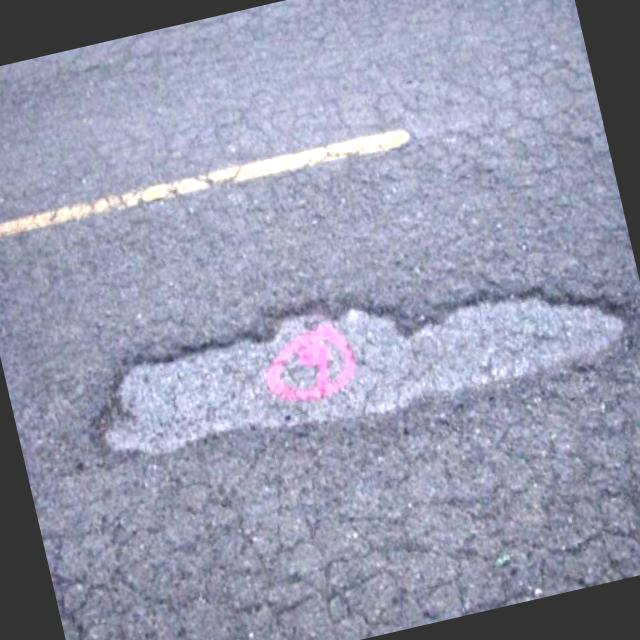pothole: (69, 216, 640, 497)
